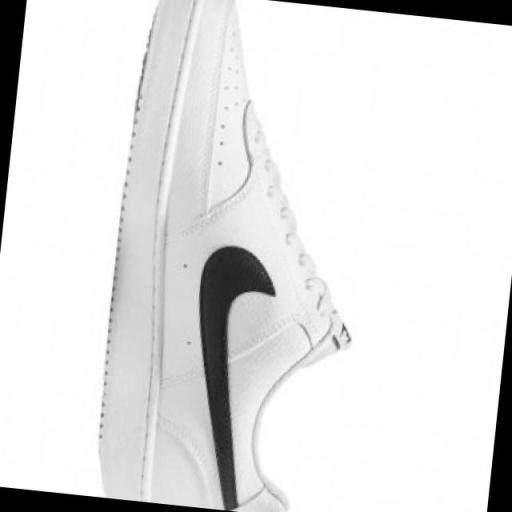Nike: (171, 237, 279, 512)
